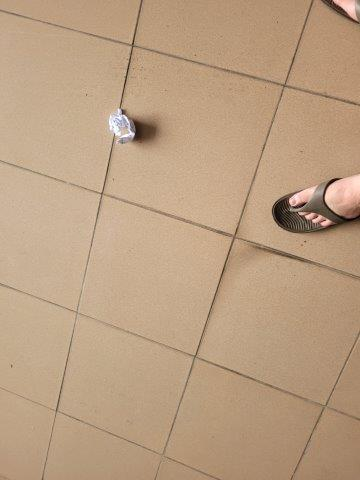kertas: (108, 110, 136, 144)
